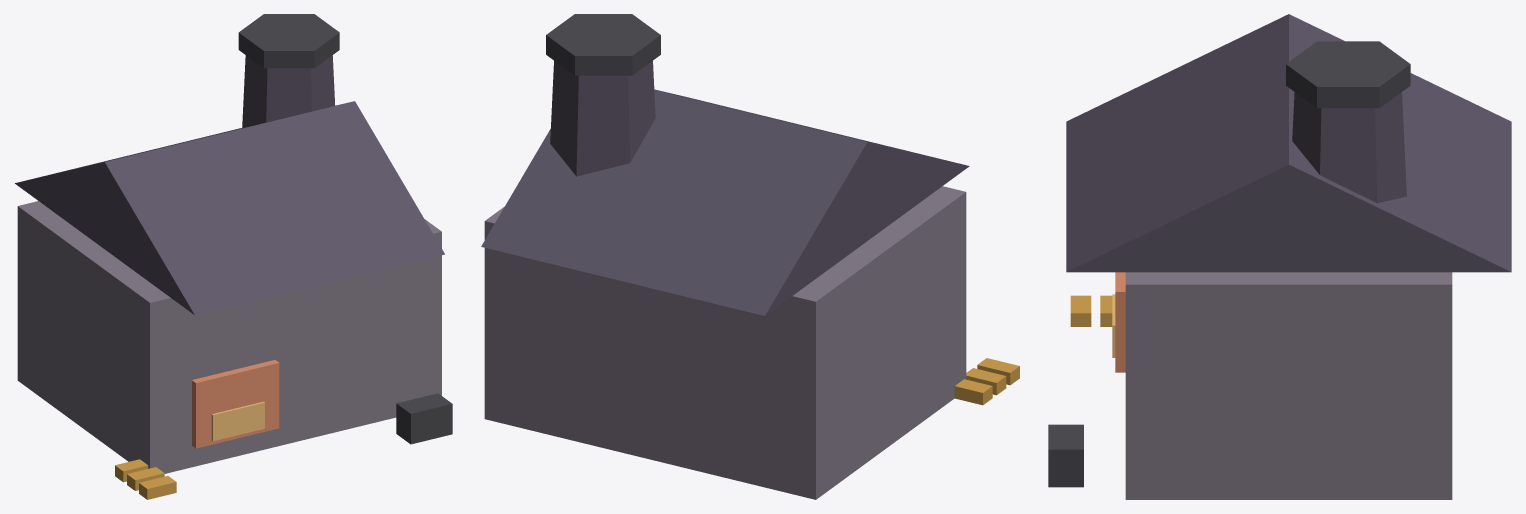
The model's file is foundry.glb.
3 renders of one model, left to right at view 1: azimuth 30°, elevation 25°; view 2: azimuth 150°, elevation 25°; view 3: azimuth 270°, elevation 25°, orthographic. The views are drawn at different scales.
Parts seen in each view (by area): view 1: shed, roof, stack, furnace_mouth, detail_stack_rim, detail_anvil, detail_glow, detail_ingot0, detail_ingot1; view 2: shed, roof, stack, detail_stack_rim, detail_ingot2, detail_ingot0, detail_ingot1; view 3: roof, shed, stack, detail_stack_rim, detail_anvil, furnace_mouth, detail_ingot0.
Part boxes in pixels (box(x1,y1,x2,y2)): shed: box(17, 201, 441, 473); roof: box(15, 101, 444, 315); stack: box(242, 55, 335, 127); furnace_mouth: box(192, 360, 279, 448); detail_stack_rim: box(238, 14, 339, 68); detail_anvil: box(396, 393, 452, 444); detail_glow: box(211, 401, 264, 441); detail_ingot0: box(139, 476, 176, 499); detail_ingot1: box(127, 467, 164, 490); shed: box(484, 186, 966, 499); roof: box(481, 89, 969, 315); stack: box(550, 61, 655, 176); detail_stack_rim: box(546, 14, 660, 75); detail_ingot2: box(954, 379, 992, 405); detail_ingot0: box(977, 358, 1019, 385); detail_ingot1: box(966, 368, 1006, 395); roof: box(1066, 14, 1511, 272); shed: box(1125, 272, 1452, 499); stack: box(1292, 92, 1406, 203); detail_stack_rim: box(1286, 41, 1410, 108); detail_anvil: box(1048, 424, 1083, 487); furnace_mouth: box(1115, 272, 1125, 372); detail_ingot0: box(1070, 295, 1091, 326).
Size of the model in its own units: 1.52 by 1.48 by 1.56.
